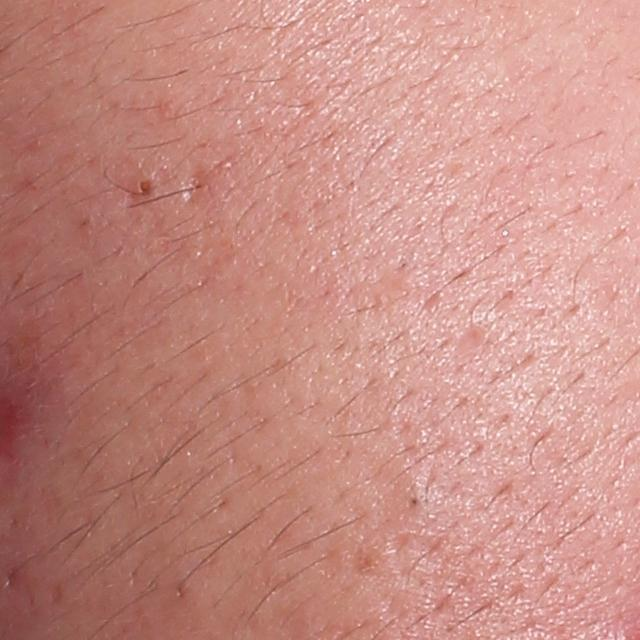atrophic_scar: (454, 323, 493, 361)
comedo: (406, 492, 424, 515)
